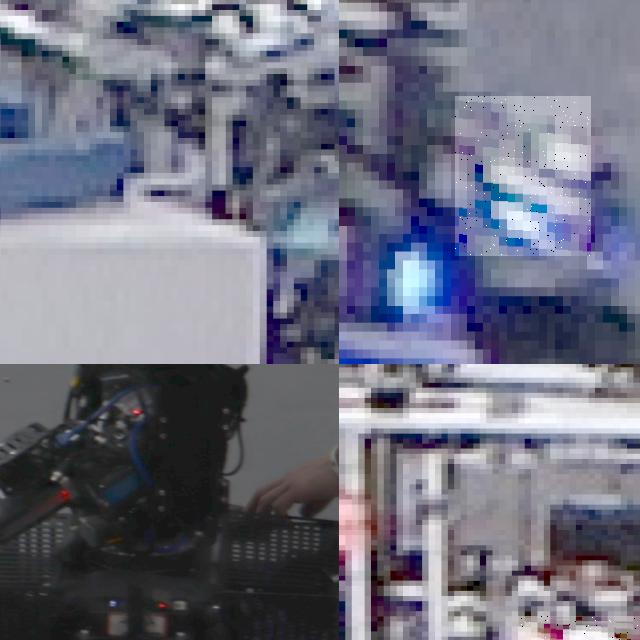B1: (455, 96, 591, 256), (339, 185, 435, 345)
R2: (518, 616, 640, 640)
